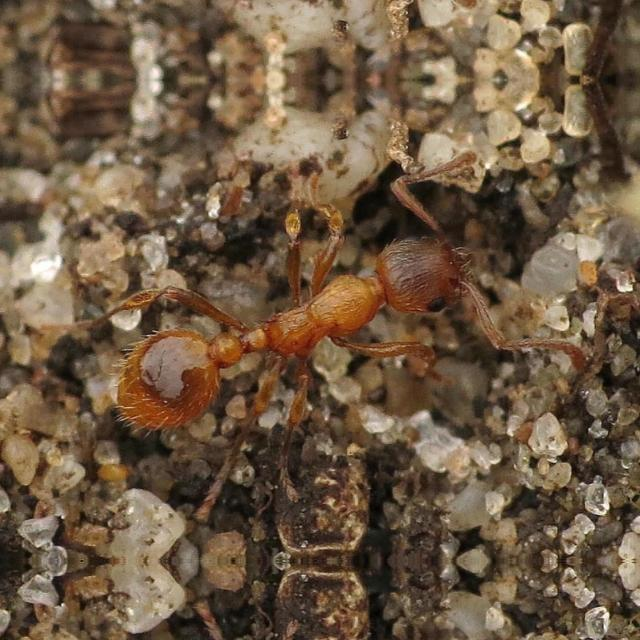Myrmica: (97, 190, 553, 456)
